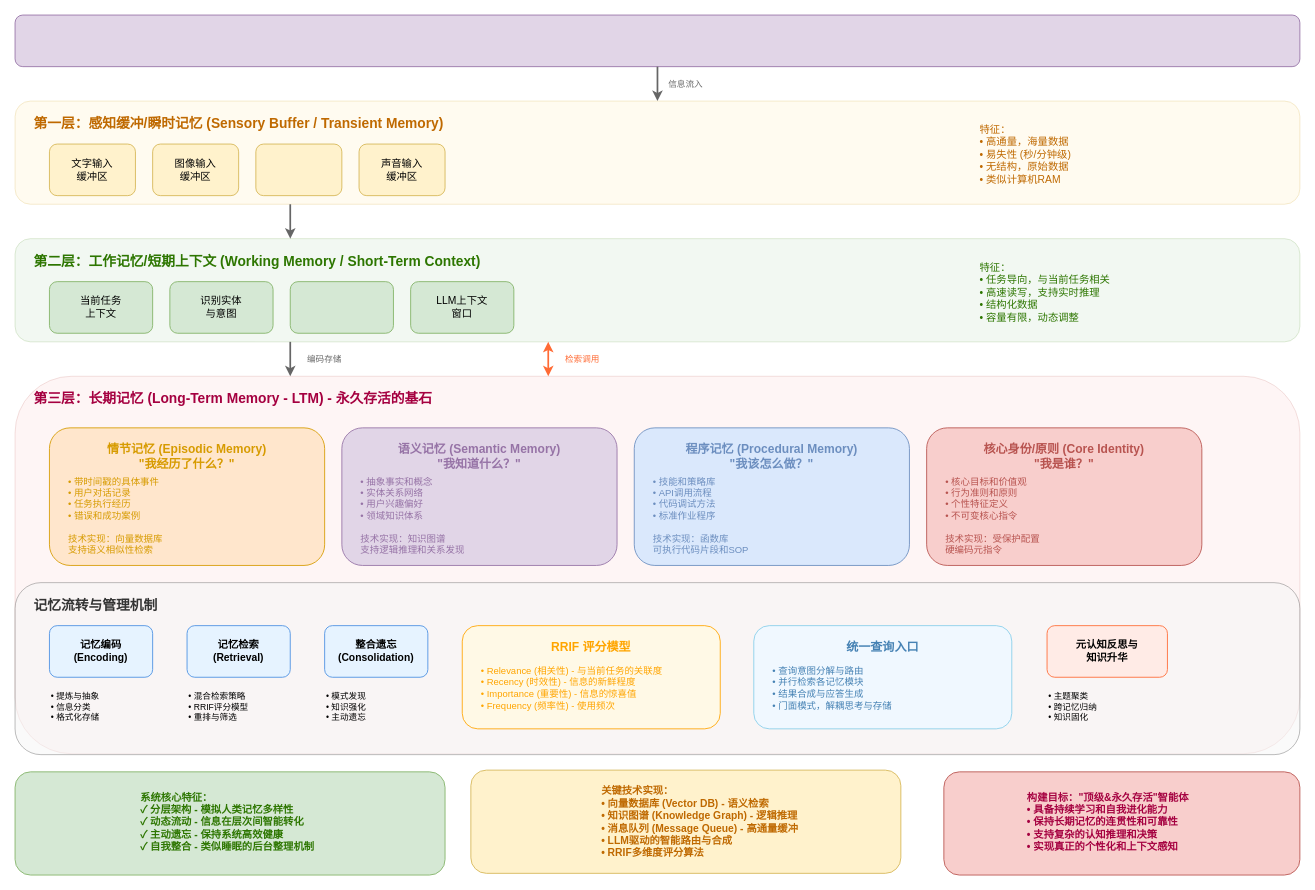
This 1315x890 diagram has some shape labels left out. Here are the shapes that lost their labels. From the top down, the centre of each, then its label:
the point at 657,40: 外部世界交互
the point at 298,169: API调用 记录缓冲
the point at 341,307: 当前目标 与状态
